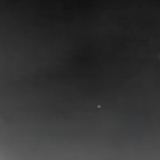Target: (97, 105, 101, 109)
